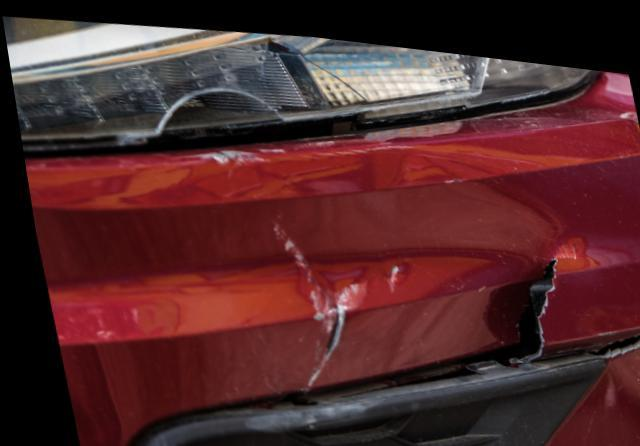crack: (509, 244, 552, 348), (571, 281, 640, 344), (297, 294, 338, 381)
lamp broken: (2, 16, 597, 154)
